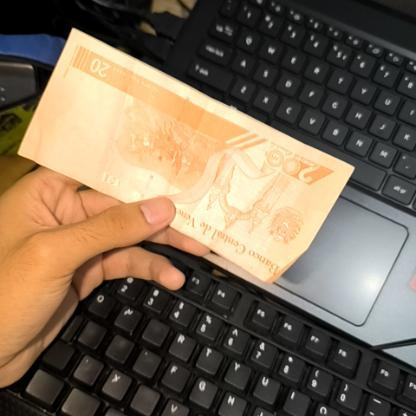vef_back: (18, 25, 360, 280)
